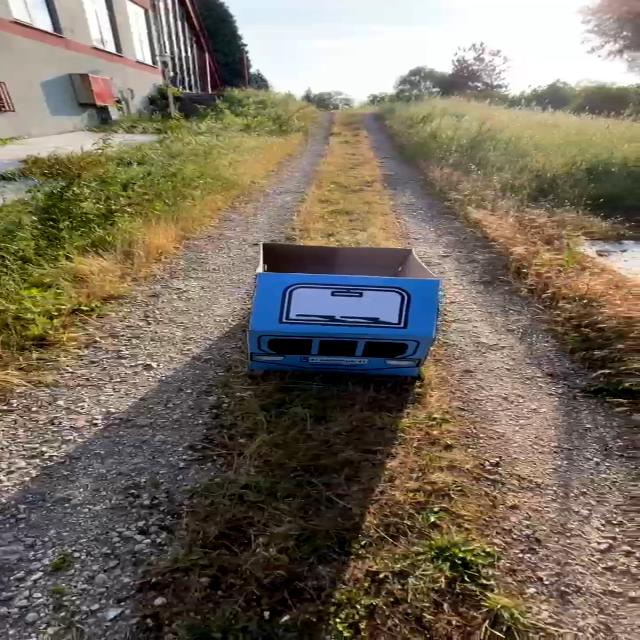blue_car: (184, 218, 477, 402)
